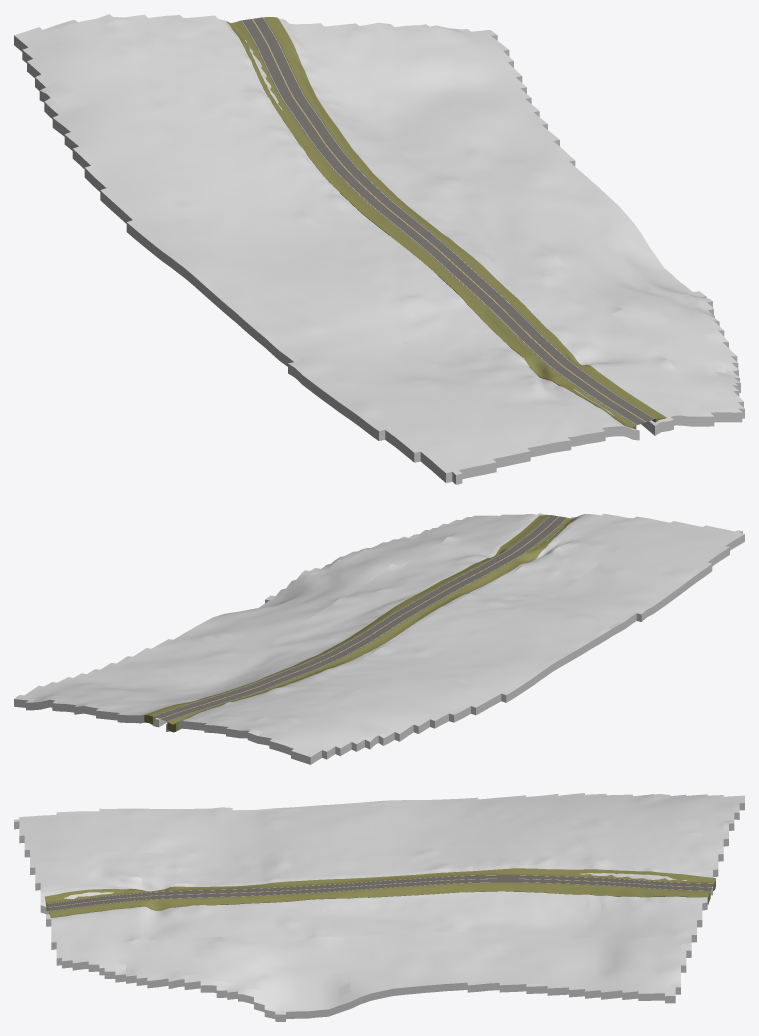
The model's file is conz_150.glb.
The picture shows the model from 3 angles, top to bottom: view 1: azimuth 30°, elevation 25°; view 2: azimuth 150°, elevation 25°; view 3: azimuth 270°, elevation 25°; orthographic projection. The views are drawn at different scales.
Visible parts, largest first — view 1: terrain150, road150, verge150L, verge150R, paint_white150, paint_yellow150; view 2: terrain150, road150, verge150L, verge150R, paint_white150, paint_yellow150; view 3: terrain150, verge150R, road150, verge150L, paint_white150, paint_yellow150.
Part boxes in pixels (box(x1,y1,x2,y2)): terrain150: box(14, 14, 744, 484); road150: box(241, 17, 655, 425); verge150L: box(226, 20, 636, 429); verge150R: box(264, 17, 666, 422); paint_white150: box(241, 17, 654, 424); paint_yellow150: box(252, 18, 645, 421); terrain150: box(14, 513, 744, 764); road150: box(153, 515, 567, 721); verge150L: box(167, 516, 578, 732); verge150R: box(144, 515, 549, 723); paint_white150: box(153, 515, 566, 720); paint_yellow150: box(160, 516, 559, 718); terrain150: box(14, 793, 744, 1021); verge150R: box(49, 882, 710, 917); road150: box(46, 875, 713, 911); verge150L: box(44, 868, 715, 910); paint_white150: box(48, 875, 713, 910); paint_yellow150: box(49, 878, 711, 907).
Bounding box in the file's own units: 160 × 40.15 × 274.
